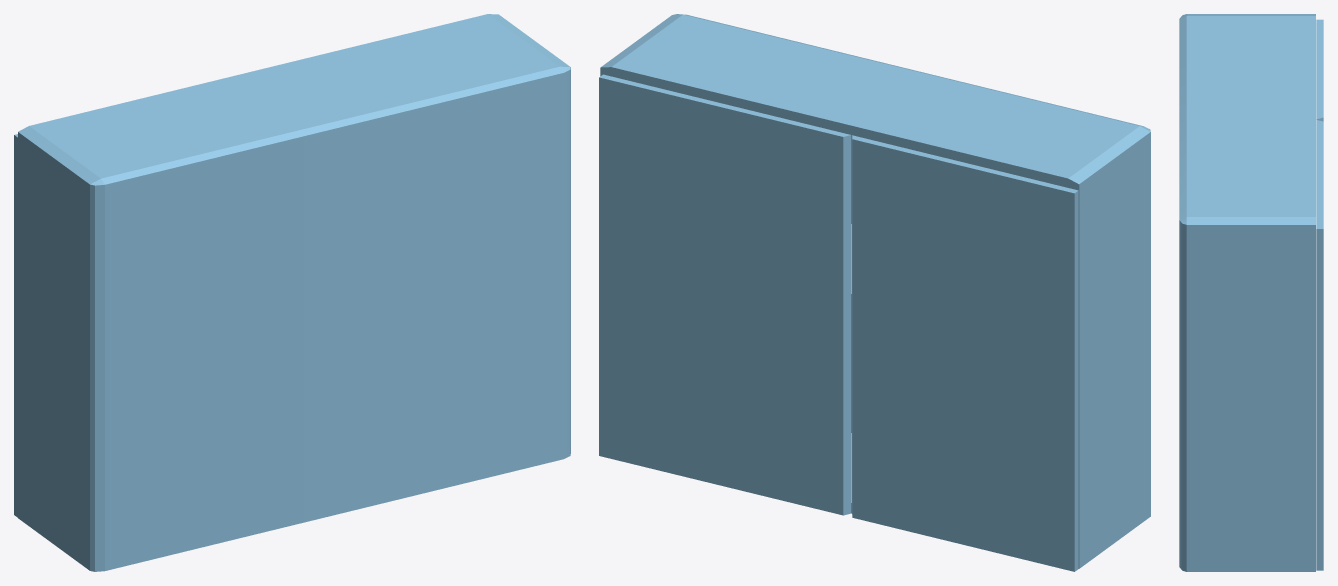
Rendered from Prop_kitchenT_closet2.FBX.
The picture shows the model from 3 angles, left to right: view 1: azimuth 30°, elevation 25°; view 2: azimuth 150°, elevation 25°; view 3: azimuth 270°, elevation 25°; orthographic projection. The views are drawn at different scales.
Parts seen in each view (by area): view 1: Prop_closet_kitch002, Prop_closetkit_door003; view 2: Prop_closetkit_door004, Prop_closetkit_door003, Prop_closet_kitch002; view 3: Prop_closet_kitch002, Prop_closetkit_door004, Prop_closetkit_door003.
Boxes of the visible parts, bbox=[...] form: Prop_closet_kitch002: bbox=[18, 14, 570, 571]; Prop_closetkit_door003: bbox=[14, 134, 17, 517]; Prop_closetkit_door004: bbox=[599, 74, 851, 515]; Prop_closetkit_door003: bbox=[852, 135, 1078, 571]; Prop_closet_kitch002: bbox=[600, 14, 1150, 568]; Prop_closet_kitch002: bbox=[1179, 14, 1315, 571]; Prop_closetkit_door004: bbox=[1316, 120, 1323, 570]; Prop_closetkit_door003: bbox=[1316, 19, 1323, 121].
Bounding box in the file's own units: 51.37 × 14.84 × 39.76.
